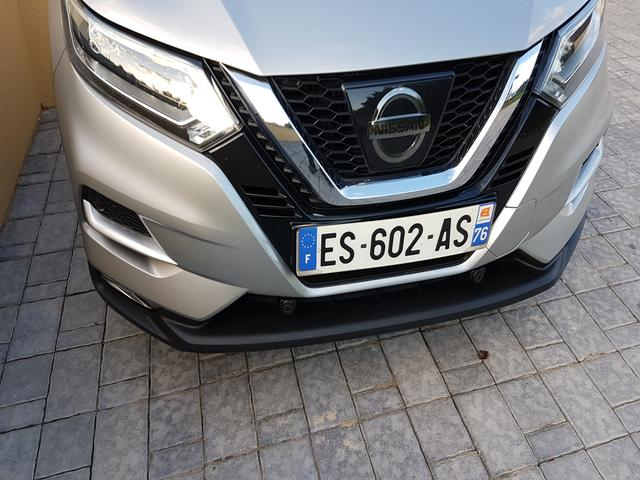Quashquai: (268, 193, 519, 277)
